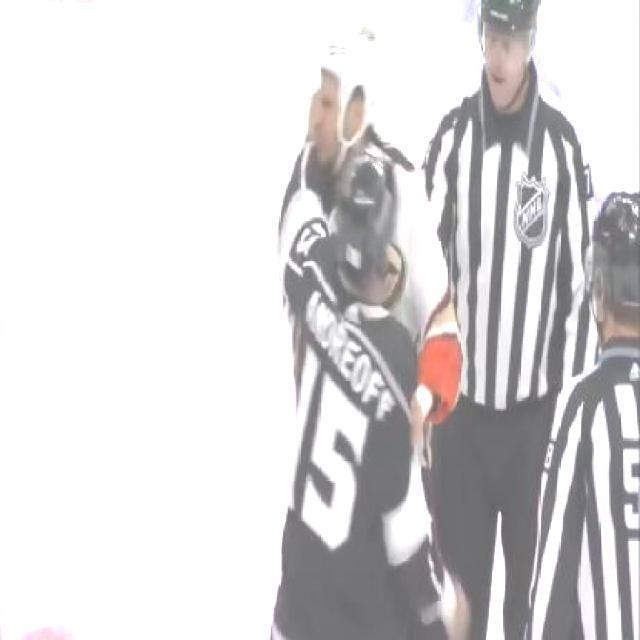fight: (270, 8, 468, 640)
